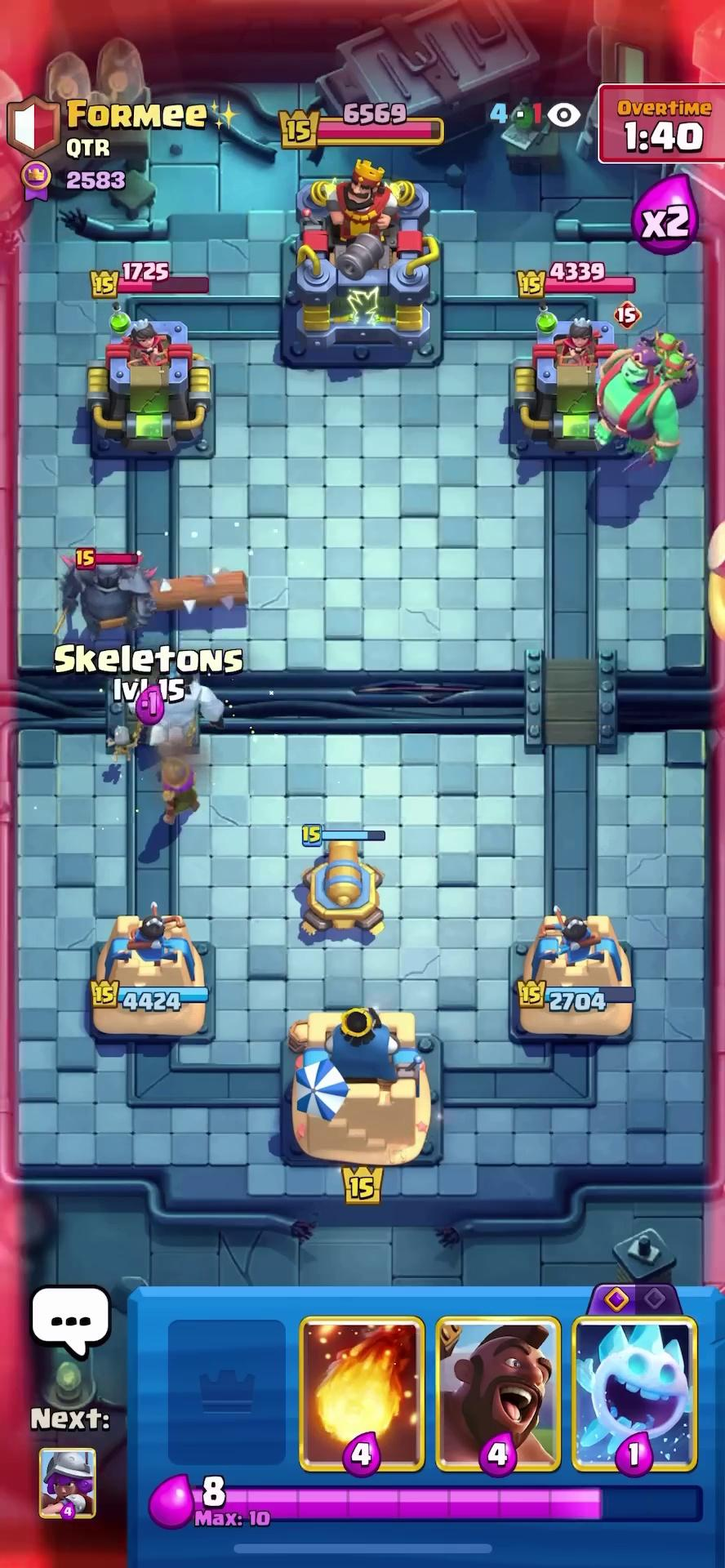cannon: (286, 831, 394, 937)
ice_golem: (151, 664, 229, 739)
musketeer: (147, 751, 212, 831)
